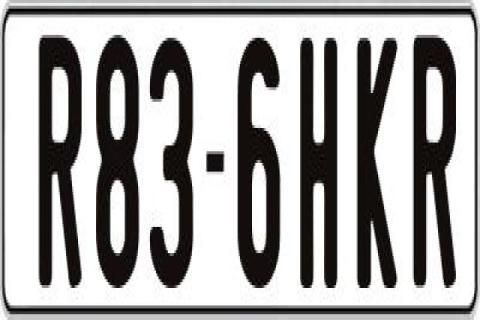0: (94, 32, 140, 285), (237, 32, 281, 294), (150, 38, 194, 291)
H: (298, 38, 334, 302)
K: (356, 29, 398, 294)
R: (38, 27, 87, 280), (412, 35, 460, 288)
